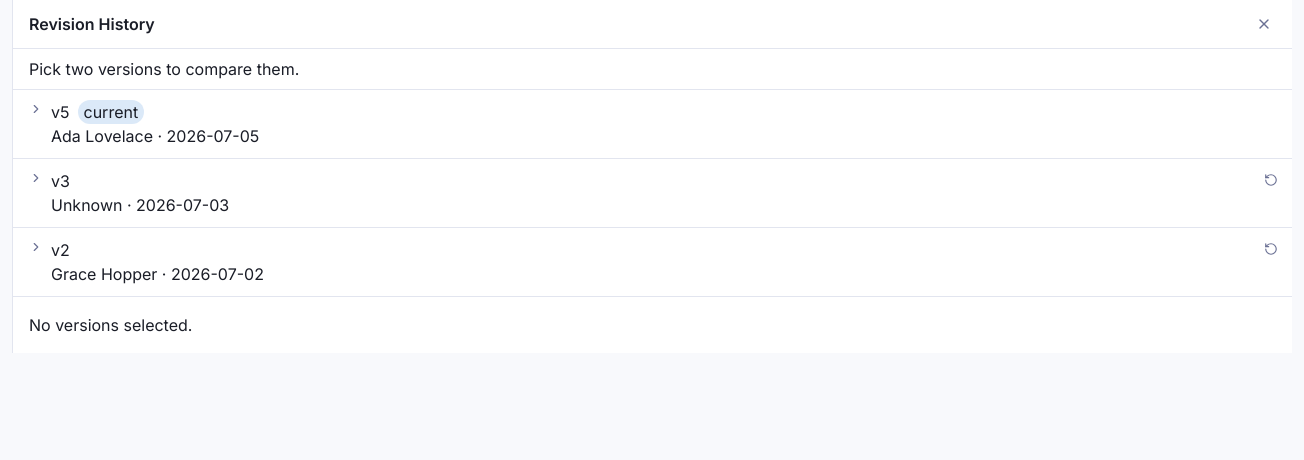
comparing two versions › fetches the picked range in version order and renders the runs
The image size is (1304, 460).
Click the button with test id "codex-revision-select" showing "v3 Unknown · 2026-07-03" at (87, 205), box [13, 159, 1254, 227]
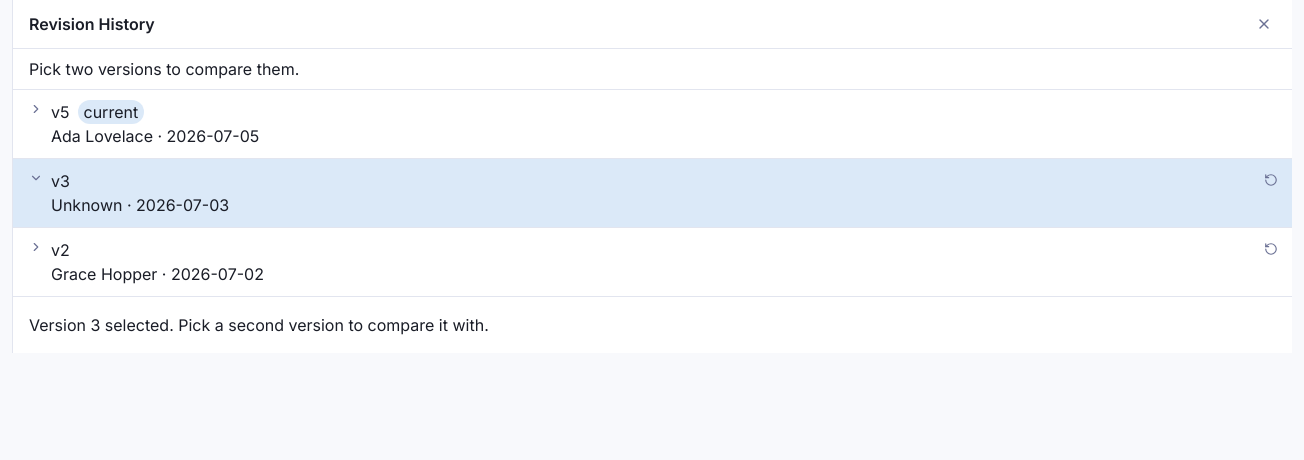
Click the button with test id "codex-revision-select" showing "v2 Grace Hopper · 2026-07-02" at (104, 274), box [13, 228, 1254, 296]
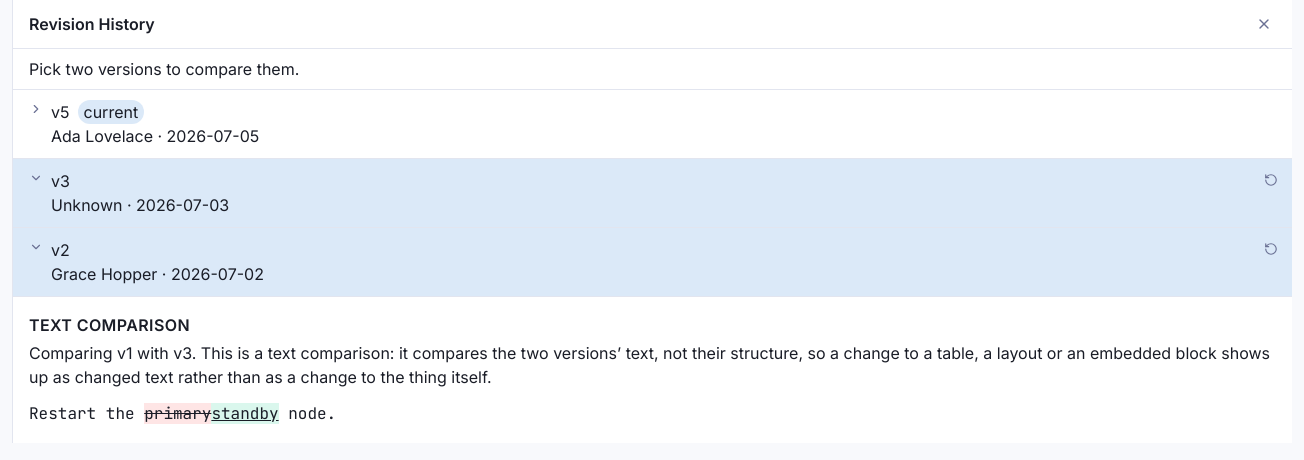
Expected: the element with test id "codex-revision-diff" is shown, [29, 313, 1276, 427]
